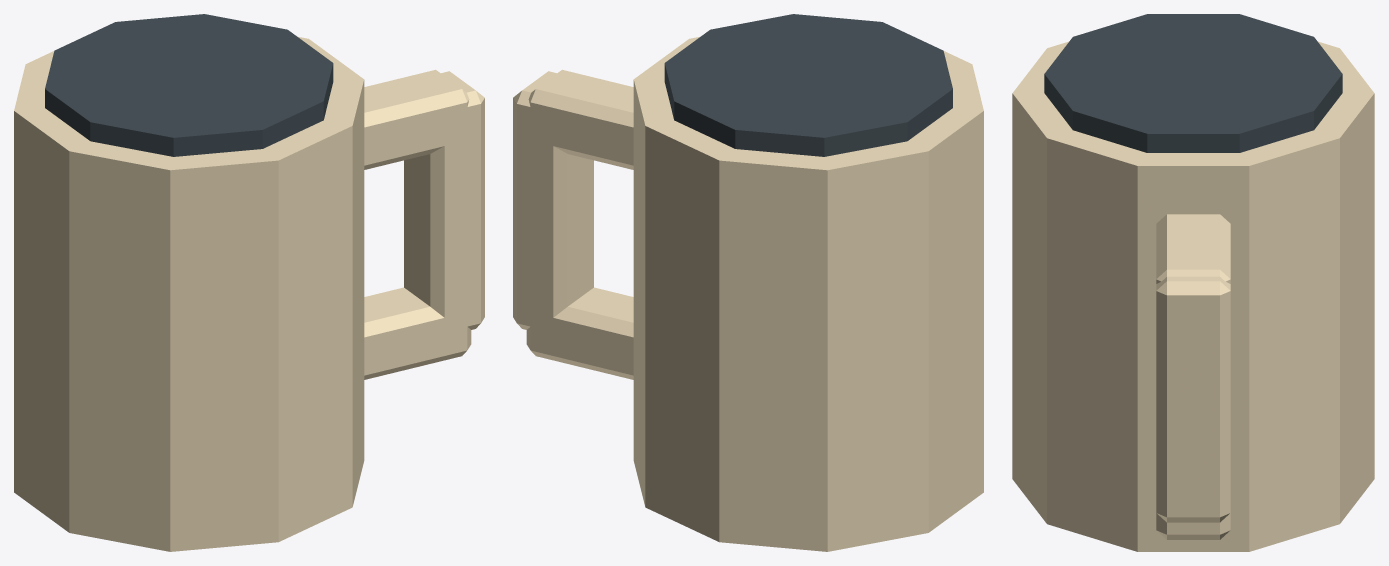
The model's file is SM_CH_Paper_Mug.fbx.
The picture shows the model from 3 angles, left to right: view 1: azimuth 30°, elevation 25°; view 2: azimuth 150°, elevation 25°; view 3: azimuth 270°, elevation 25°; orthographic projection.
Parts seen in each view (by area): view 1: SM_CH_Paper_Mug; view 2: SM_CH_Paper_Mug; view 3: SM_CH_Paper_Mug.
Part boxes in pixels (x1,y1,x2,y2): SM_CH_Paper_Mug: (14, 14, 484, 551); SM_CH_Paper_Mug: (513, 14, 983, 551); SM_CH_Paper_Mug: (1012, 14, 1374, 551).
Bounding box in the file's own units: 4717 × 3400 × 4200.
